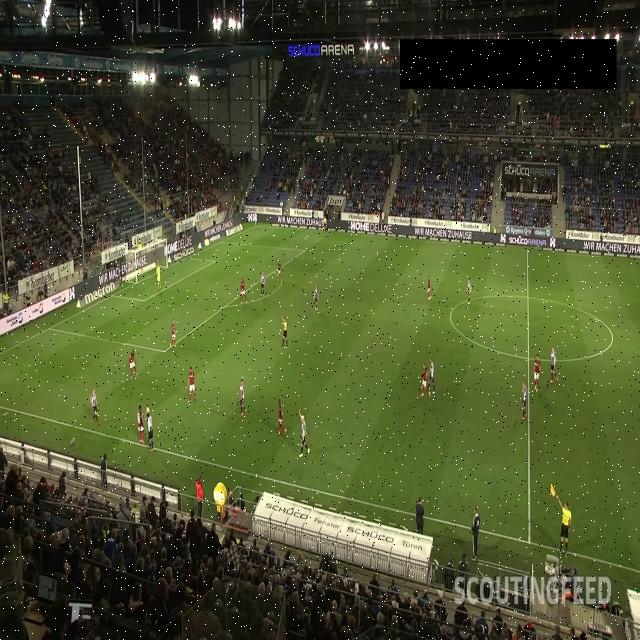Ball: (146, 406, 150, 414)
GoalKeeper: (155, 262, 163, 290)
Referee: (549, 482, 572, 558), (281, 314, 288, 348)
TEAM 1: (418, 362, 431, 398), (135, 403, 145, 445), (187, 366, 197, 404), (277, 398, 287, 436), (533, 353, 541, 394), (129, 348, 139, 380), (239, 275, 248, 305), (170, 317, 177, 348), (427, 275, 432, 301), (277, 259, 282, 281)
TEAM 2: (298, 408, 310, 457), (90, 386, 101, 426), (144, 409, 154, 452), (550, 344, 558, 384), (428, 357, 436, 396), (240, 378, 248, 416), (521, 380, 528, 420), (313, 284, 319, 312), (260, 270, 266, 296), (467, 279, 472, 305)
